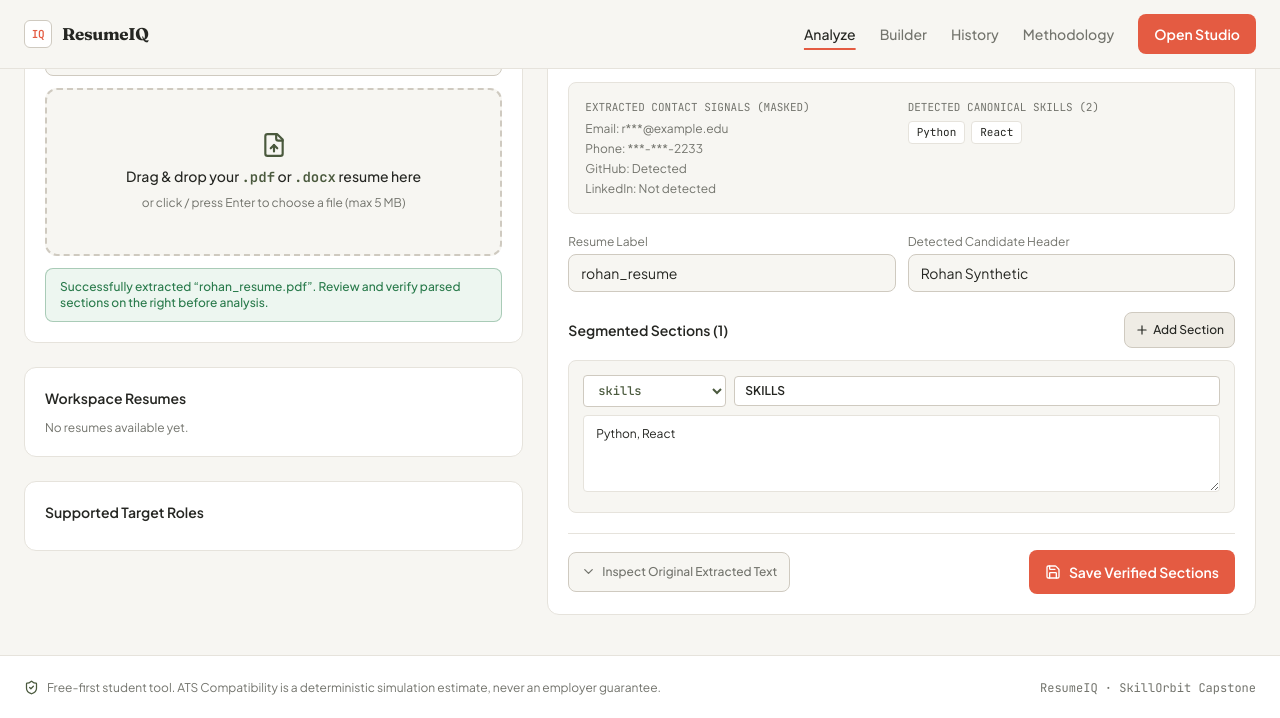
it: Phase 5 Resume Upload & Editable Parse Preview › uploads PDF, displays warnings & skills, and saves edited sections while preserving raw_text
Earlier steps of the test are not shown.
(page scrolled)
Expected: the list item "Email: r***@example.edu" is shown, [585,121,728,136]
Expected: the text "Python" is shown, [908,121,965,144]
Replace the text in the field named "Section 1 heading" with "TECHNICAL SKILLS" at (977, 391), box [734,376,1220,406]
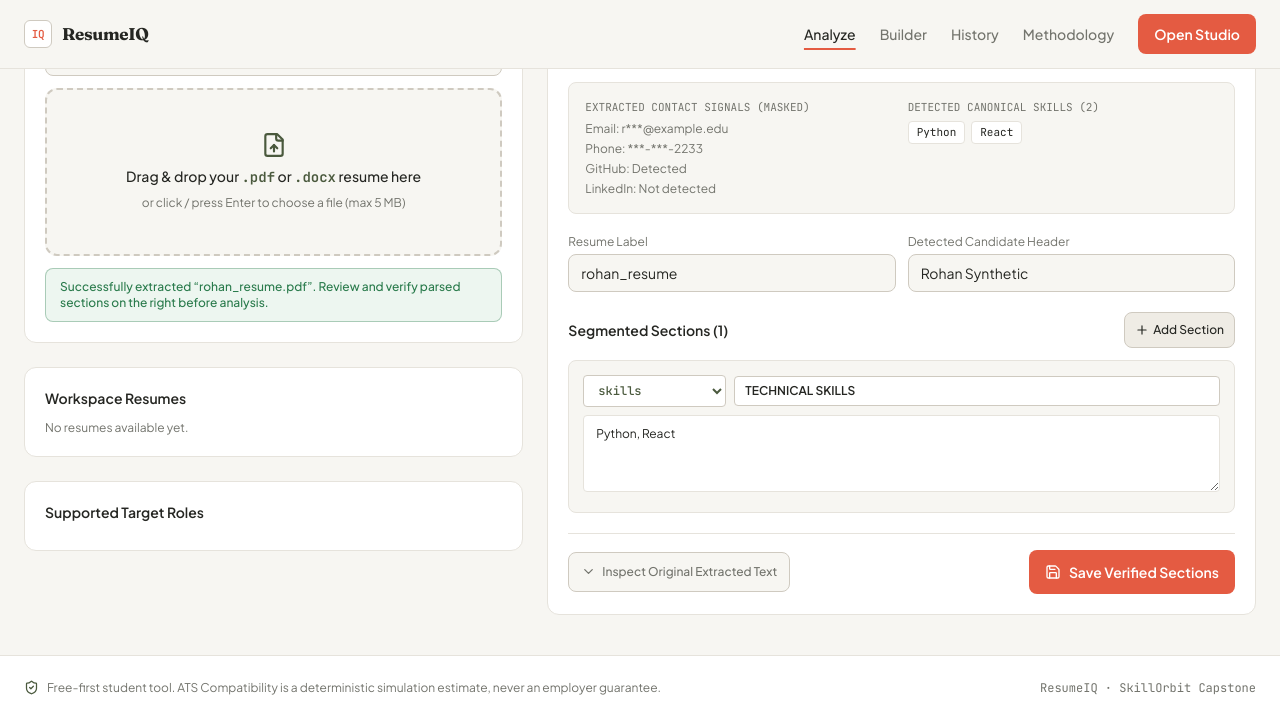
Click the button "Save Verified Sections" at (1132, 572), box [1029,550,1235,594]
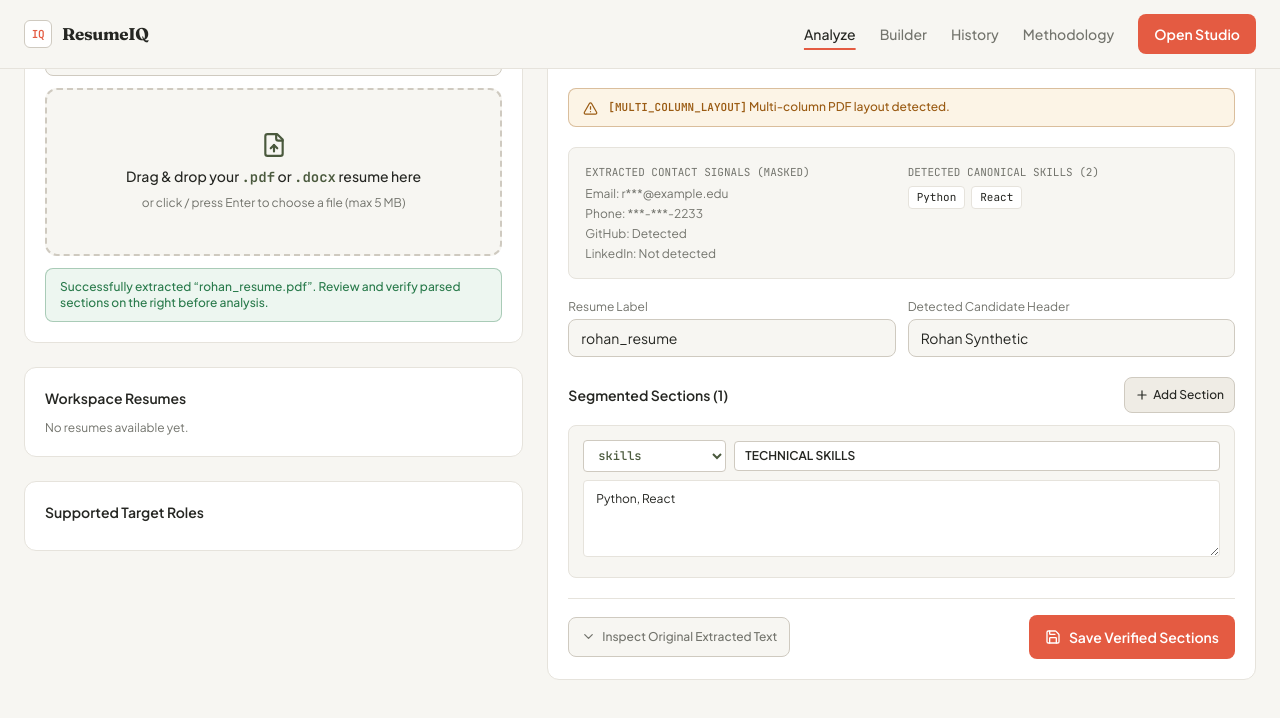
Click the button "Inspect Original Extracted Text" at (679, 636), box [568,616,790,656]
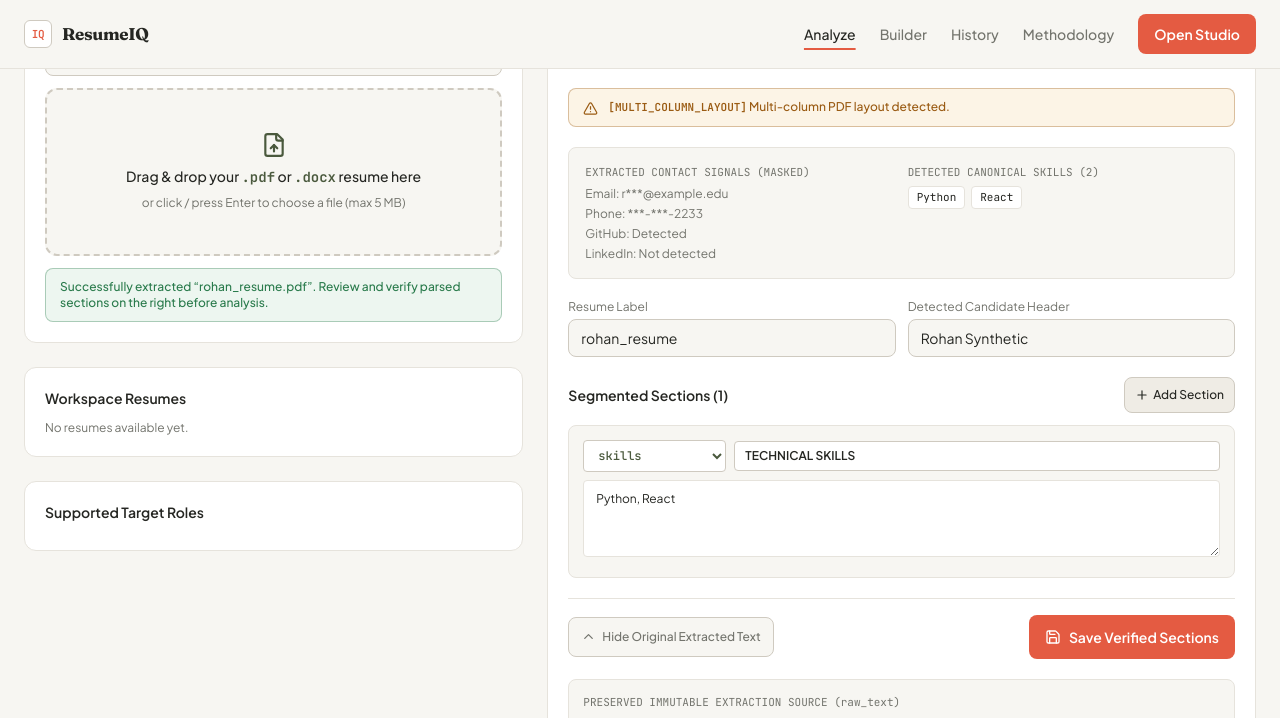
Expected: the text "PRESERVED IMMUTABLE EXTRACTION SOURCE (raw_text)" is shown, [583,694,900,708]
